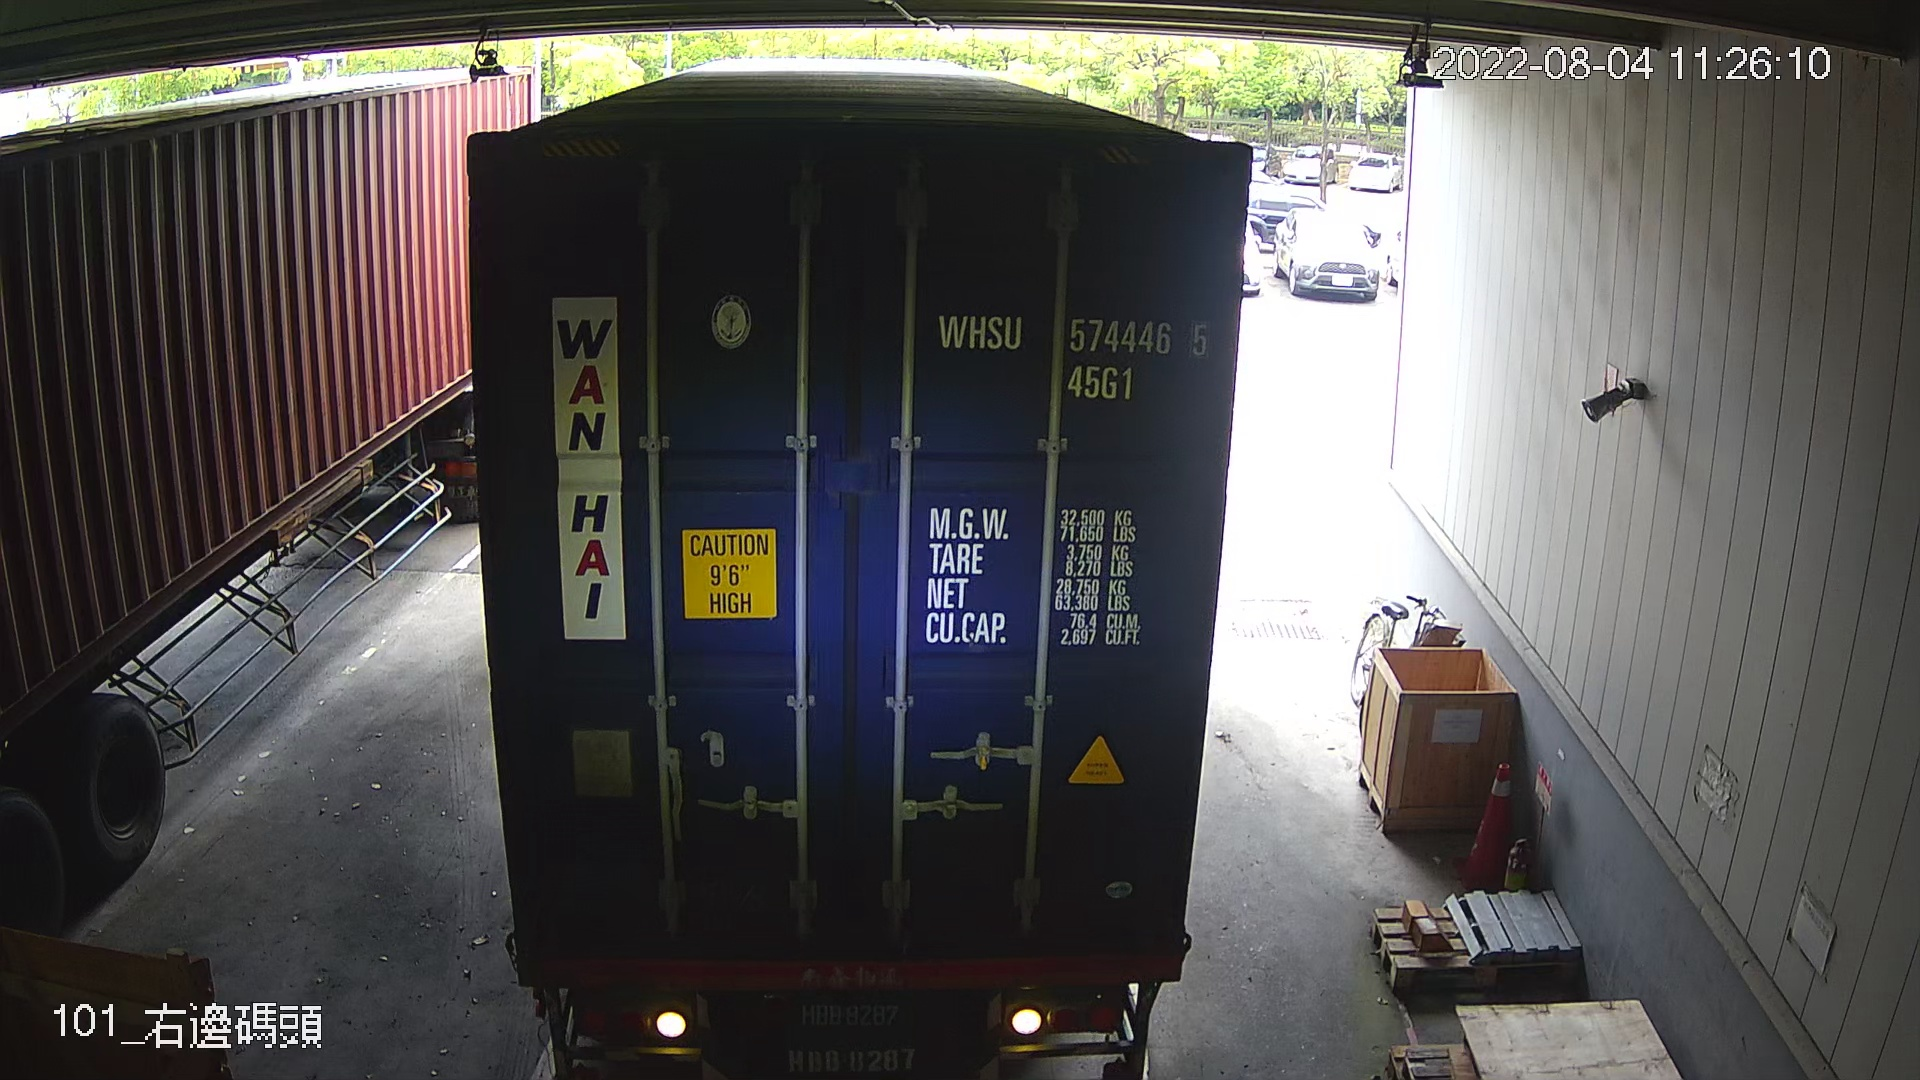container: (926, 295, 1220, 410)
